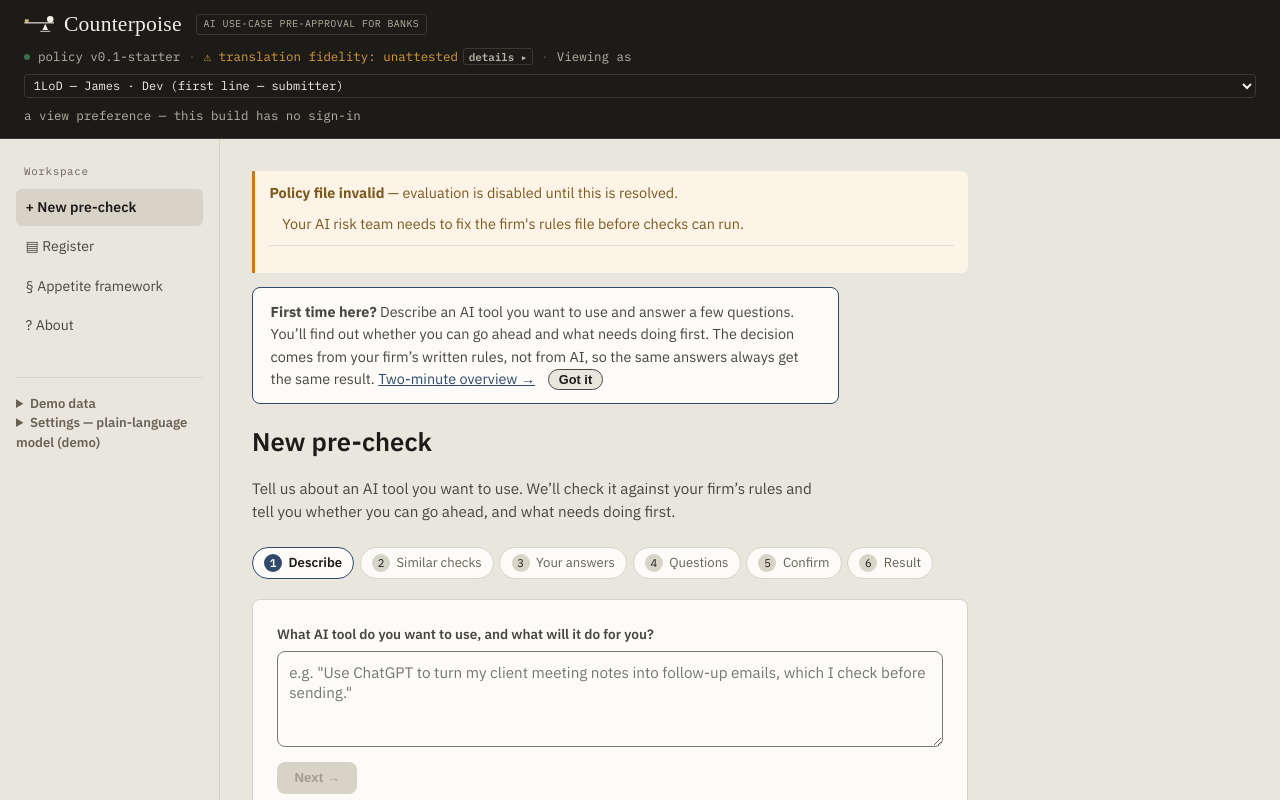
Test: About — the app explains itself › shows a first-visit pointer on the intake screen, dismissible for good
Expected: the text "First time here?" is shown, left=271, top=302, right=377, bottom=321
Click the button "Got it" at (576, 380), box left=548, top=369, right=603, bottom=390
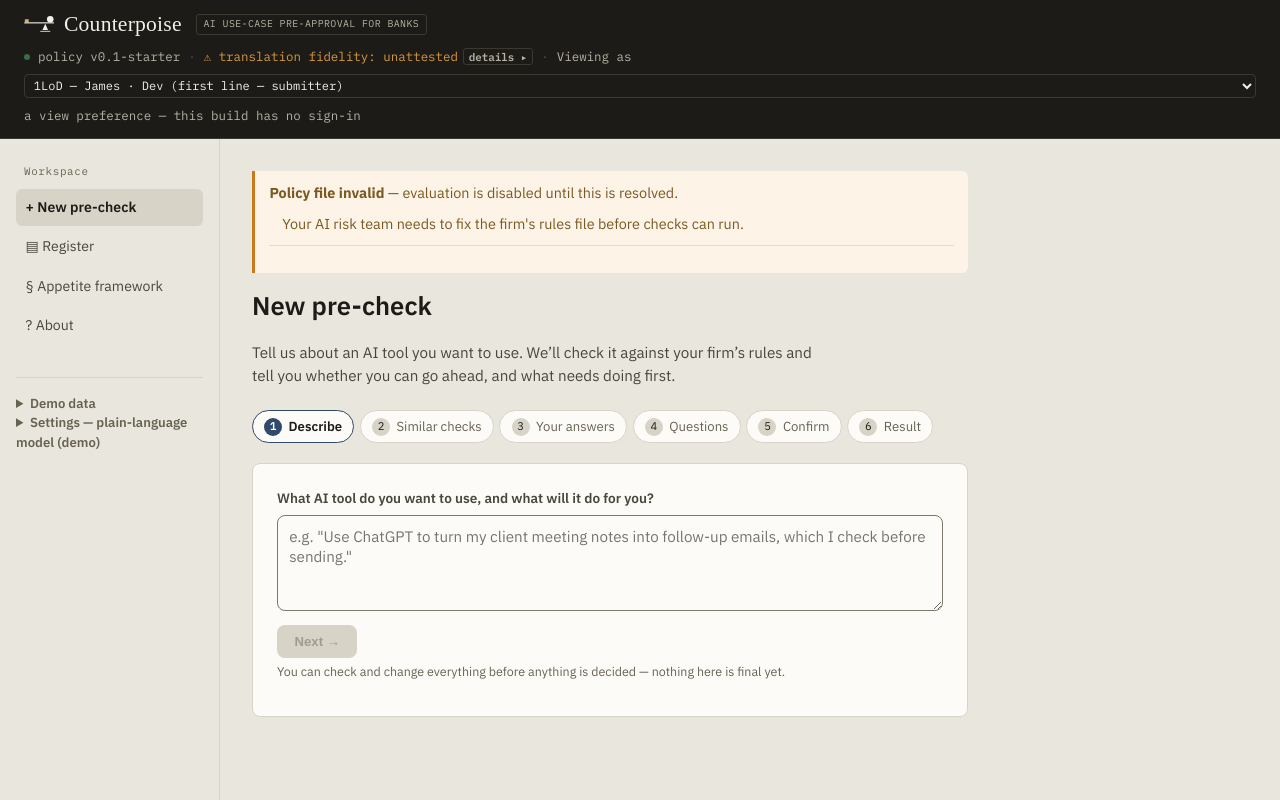
Now the text "First time here" is gone
